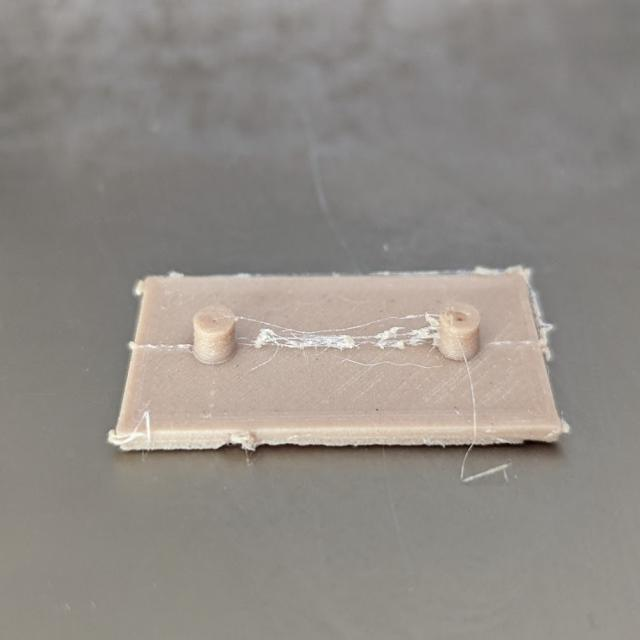Warping: (114, 414, 567, 461)
